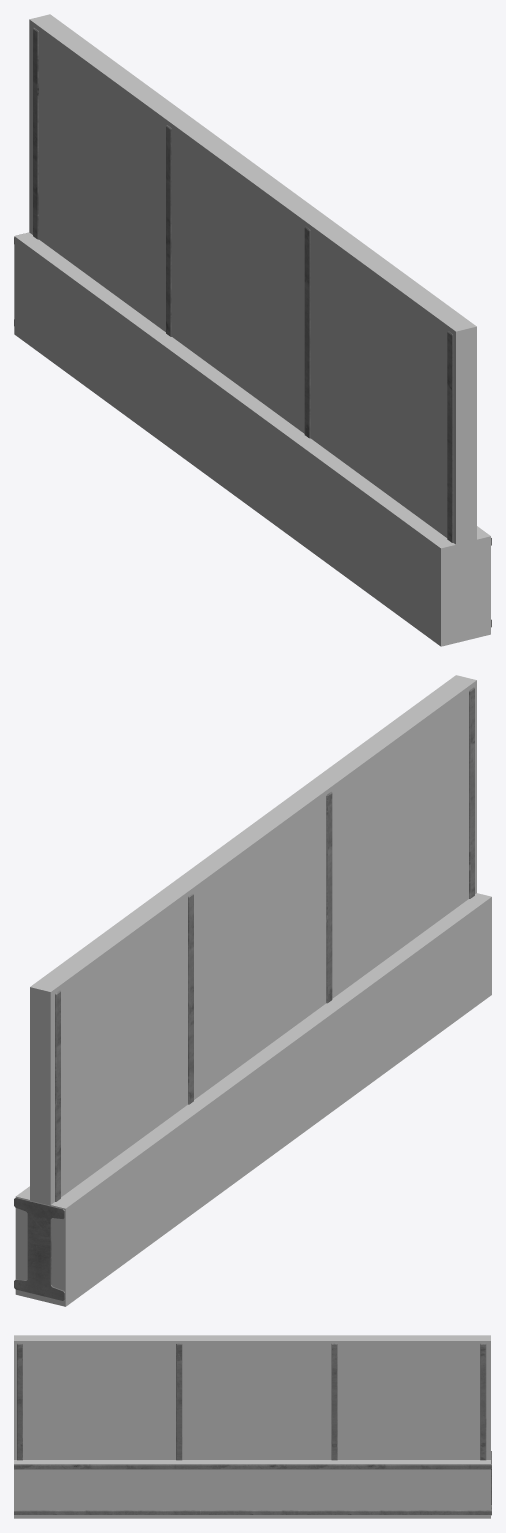
File: SM_Arc_StairsModular_AH_V3.fbx
The picture shows the model from 3 angles, top to bottom: view 1: azimuth 30°, elevation 25°; view 2: azimuth 150°, elevation 25°; view 3: azimuth 270°, elevation 25°; orthographic projection. The views are drawn at different scales.
Visible parts, largest first — view 1: SM_Arc_StairsModular_AH_V3_ConvexHulls, SM_Arc_StairsModular_AH_V3; view 2: SM_Arc_StairsModular_AH_V3_ConvexHulls, SM_Arc_StairsModular_AH_V3; view 3: SM_Arc_StairsModular_AH_V3_ConvexHulls, SM_Arc_StairsModular_AH_V3.
Boxes of the visible parts, x1,y1,x2,y2 form: SM_Arc_StairsModular_AH_V3_ConvexHulls: (14, 14, 490, 646); SM_Arc_StairsModular_AH_V3: (14, 28, 491, 627); SM_Arc_StairsModular_AH_V3_ConvexHulls: (15, 675, 491, 1306); SM_Arc_StairsModular_AH_V3: (14, 687, 474, 1300); SM_Arc_StairsModular_AH_V3_ConvexHulls: (14, 1335, 490, 1518); SM_Arc_StairsModular_AH_V3: (14, 1343, 491, 1515).
Size of the model in its own units: 22.29 by 324 by 130.
Materials: 2 (1 with a texture image).
